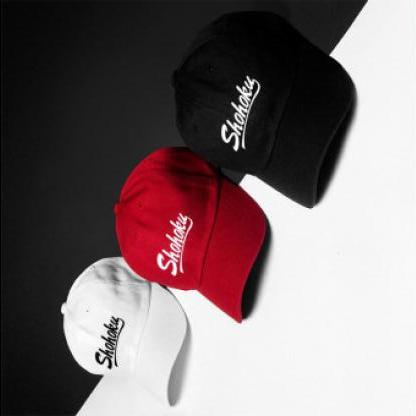cap: (105, 143, 269, 326)
